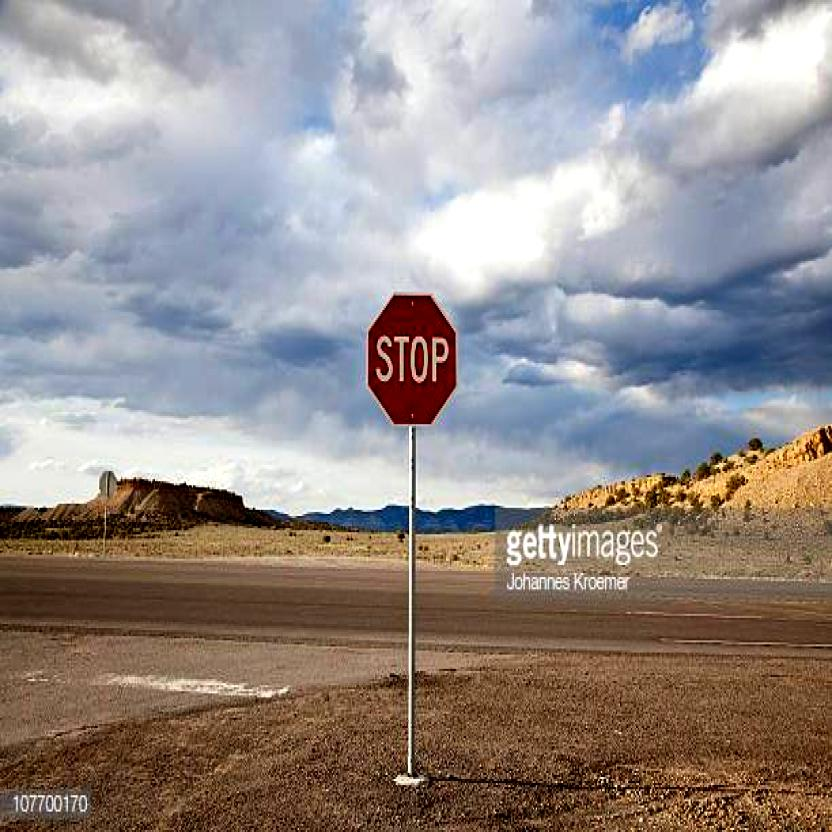Pole: (408, 424, 416, 778)
Sign: (366, 292, 458, 425), (99, 470, 119, 500)
